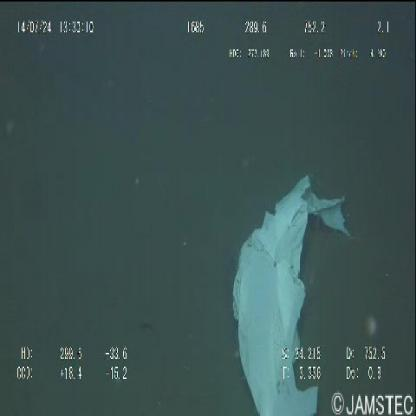Rác: (232, 174, 352, 414)
